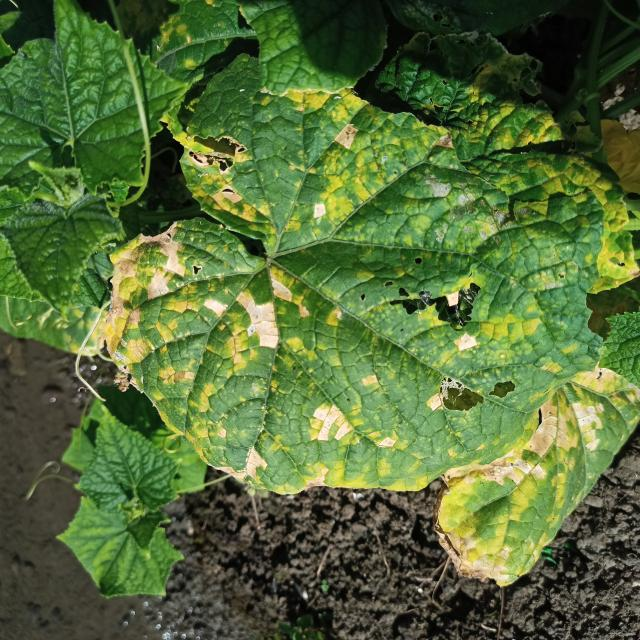disease_cucumber: (110, 70, 596, 490), (429, 369, 632, 564)
